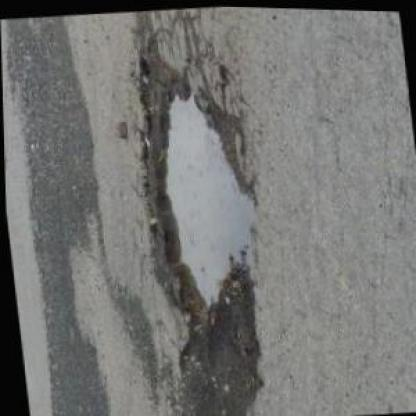pothole: (117, 42, 268, 332)
